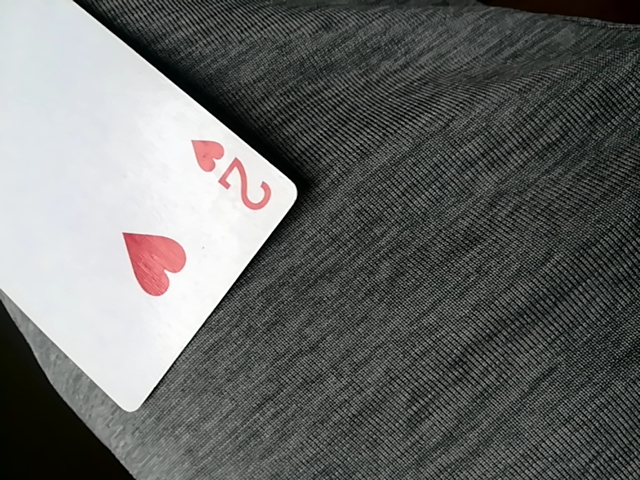hx 2: (0, 2, 302, 422)
